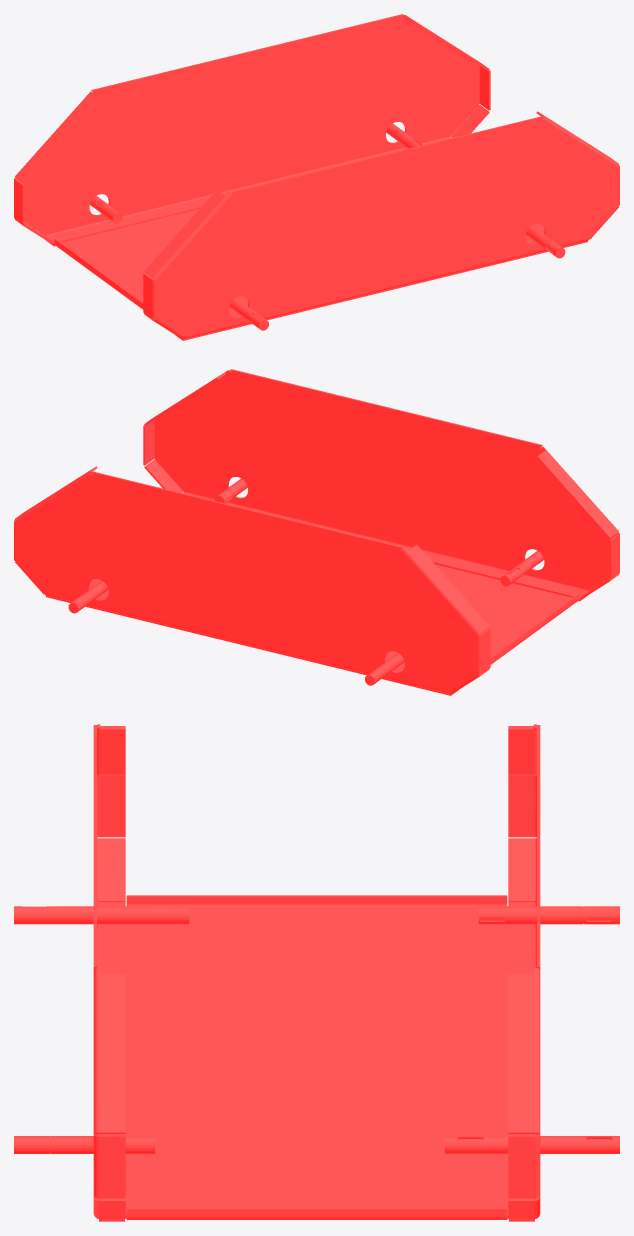
3 views of the same model, one above another, from view 1: azimuth 30°, elevation 25°; view 2: azimuth 150°, elevation 25°; view 3: azimuth 270°, elevation 25° (orthographic). The views are drawn at different scales.
Visible parts, largest first — view 1: Base_Link; view 2: Base_Link; view 3: Base_Link.
Boxes of the visible parts, left/top/right/bottom form: Base_Link: left=14, top=14, right=619, bottom=340; Base_Link: left=14, top=369, right=619, bottom=695; Base_Link: left=14, top=724, right=619, bottom=1221.
Bounding box in the file's own units: 0.8088 × 0.5709 × 0.2275.
